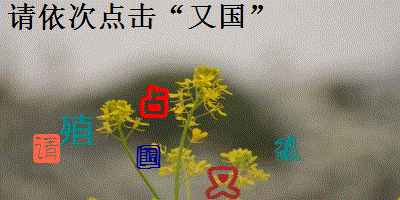result: (185, 2, 247, 30)
text: (201, 163, 244, 199), (59, 110, 95, 149), (137, 82, 171, 119), (271, 134, 303, 165), (134, 142, 164, 171), (32, 134, 59, 163)
